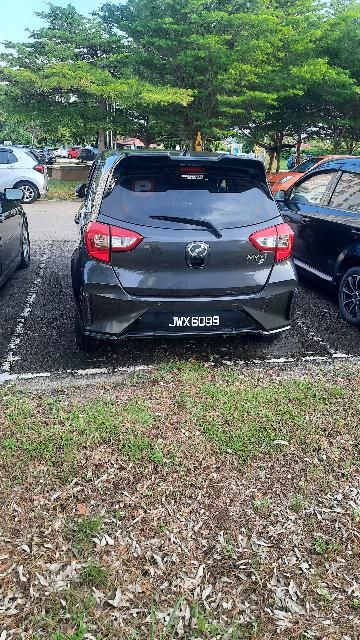License_Plate: (141, 305, 251, 340)
car: (65, 141, 298, 352)
